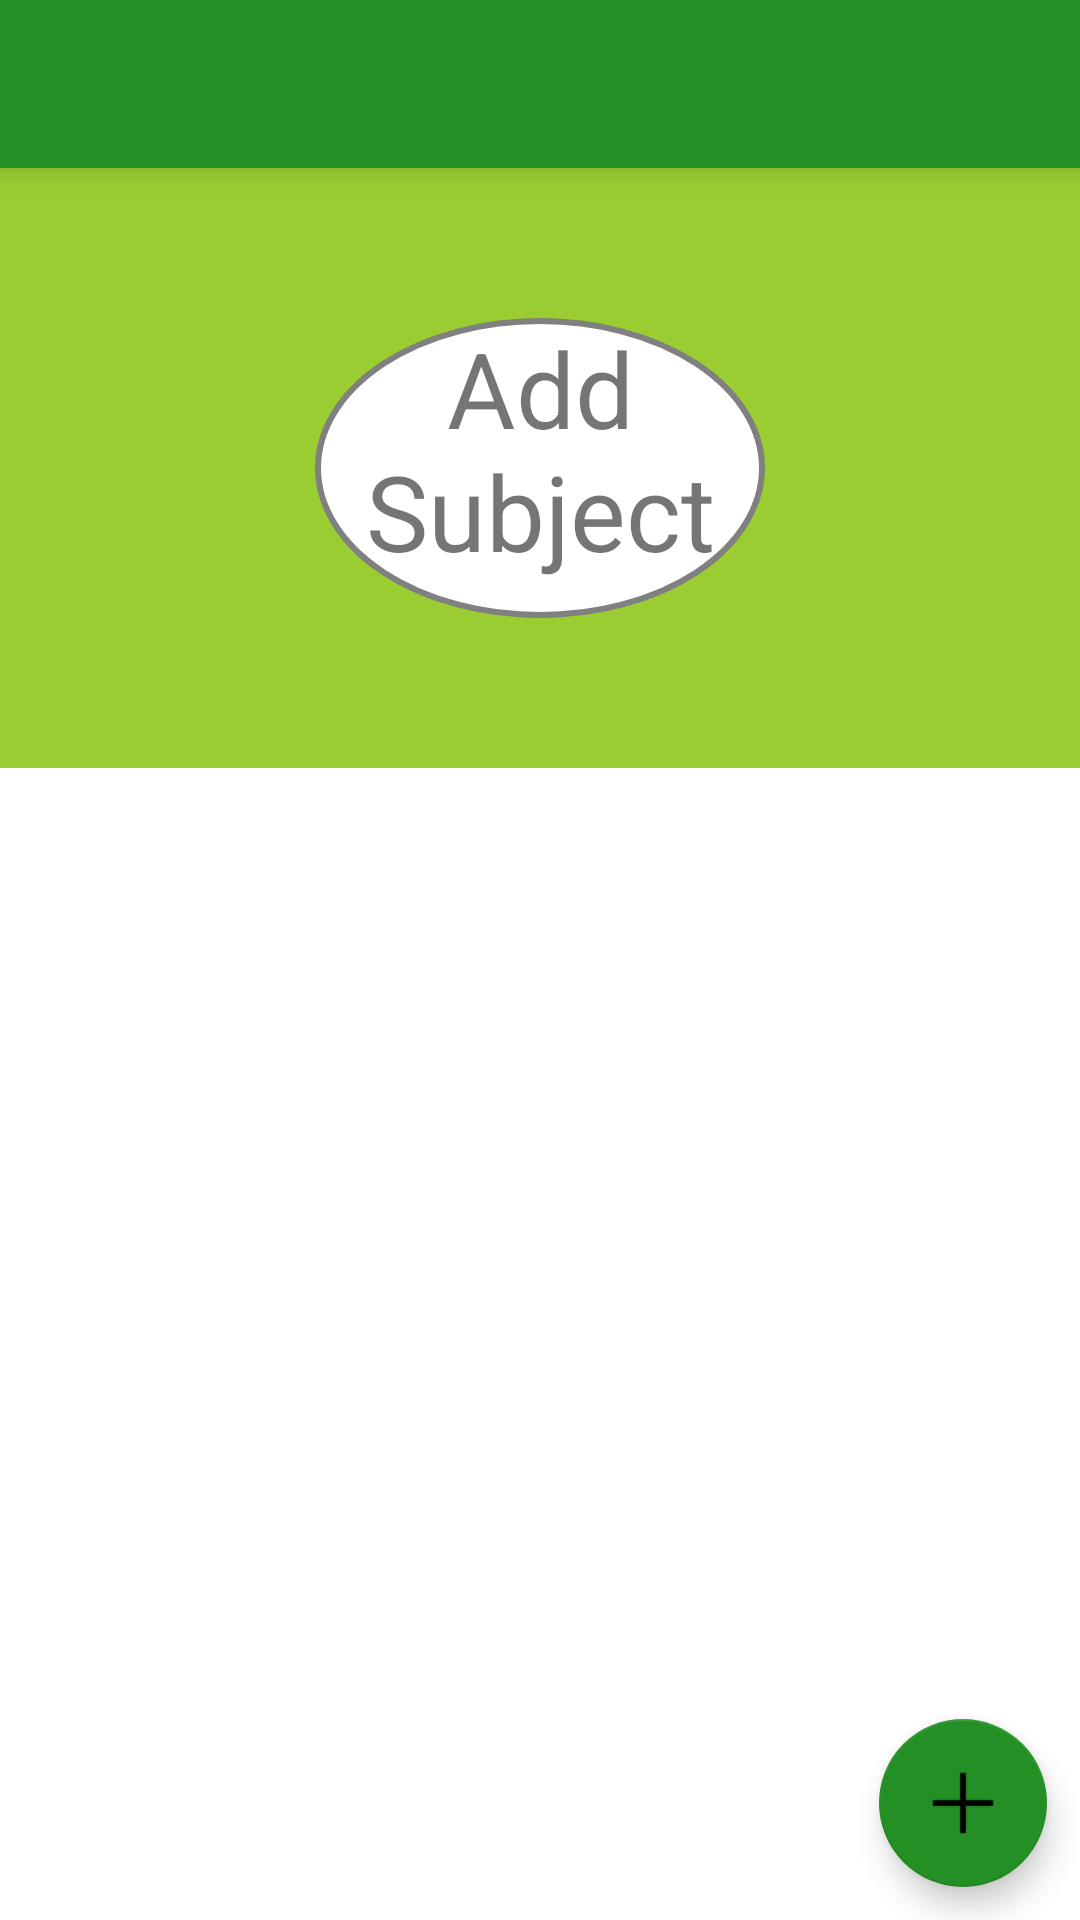

Screen size 1080 x 1920. Icon name, then its box in pixels as Rect(x1, y1, x2, y2):
plus: Rect(879, 1719, 1047, 1887)
